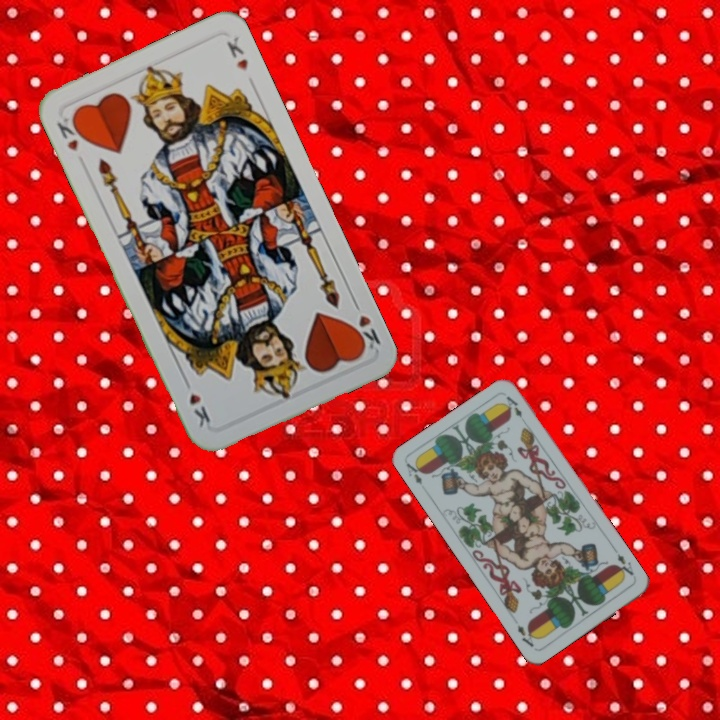EA: (402, 457, 430, 495), (611, 550, 636, 581)
HK: (347, 296, 383, 356), (52, 112, 87, 154)
